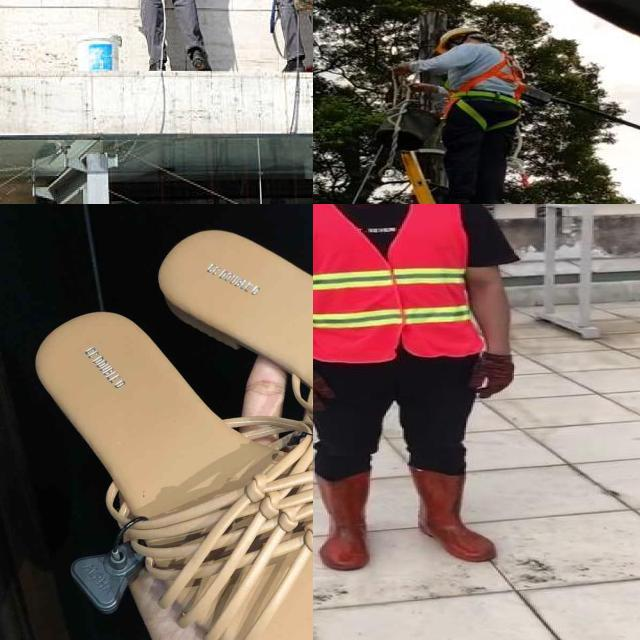Harness: (446, 44, 524, 135)
Sandals: (5, 204, 313, 640)
boots: (414, 464, 498, 563), (313, 472, 372, 570)
person: (313, 204, 528, 573)
vest: (313, 204, 482, 361)
